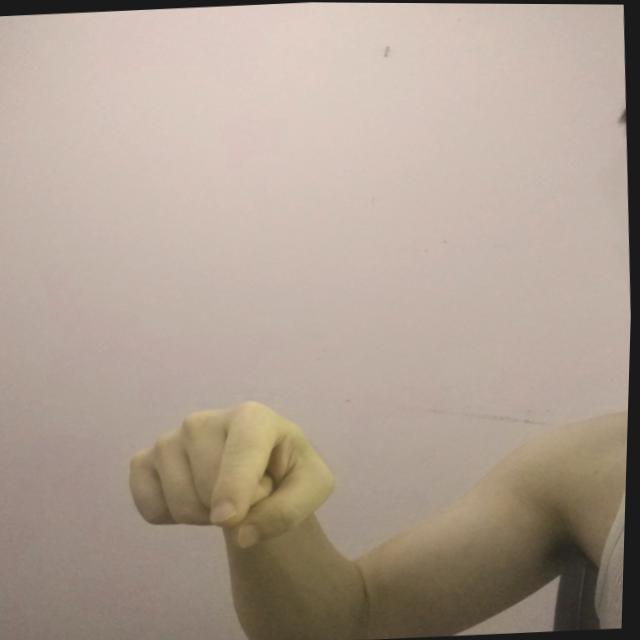Z: (120, 391, 350, 560)
